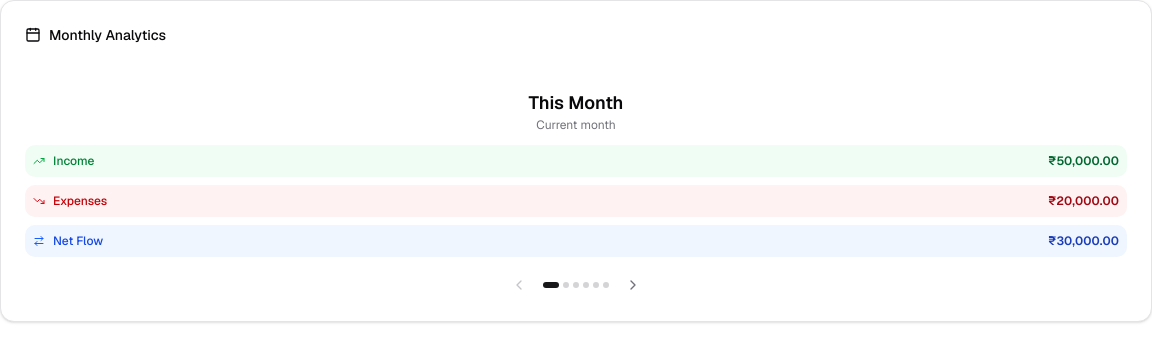
it: MonthlyAnalyticsCard › steps through the ranges with the arrows
This screenshot has width=1152, height=340.
Expected: the button named "View previous range" is disabled, [507,273,531,297]
What coordinates should you click on to do the following:
click the button named "View next range"
I would click on:
 (633, 285)
Its box is [621,273,645,297].
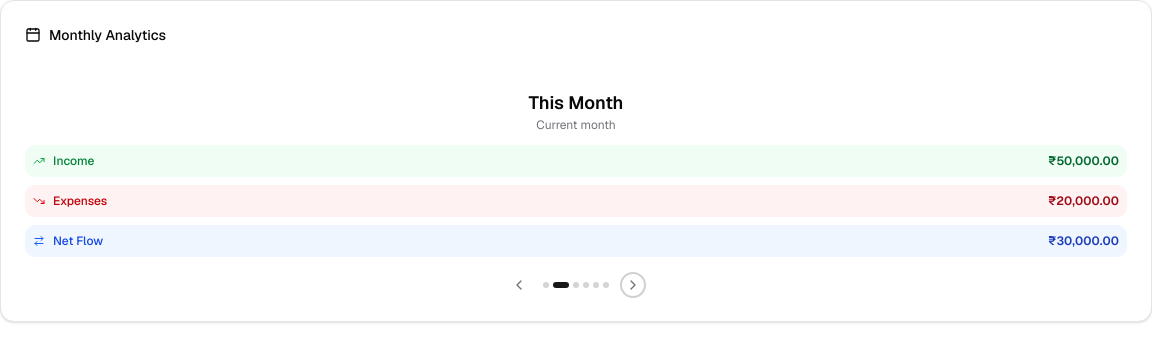
Expected: the button named "View previous range" is enabled, [507,273,531,297]
What coordinates should you click on to do the following:
click the button named "View All Time analytics"
I would click on:
 (606, 285)
Its box is [603,282,609,288].
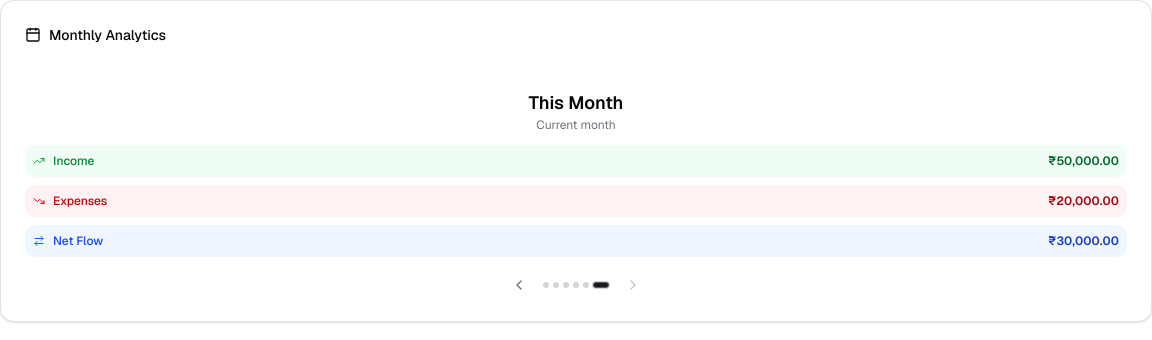
Expected: the button named "View next range" is disabled, [621,273,645,297]
